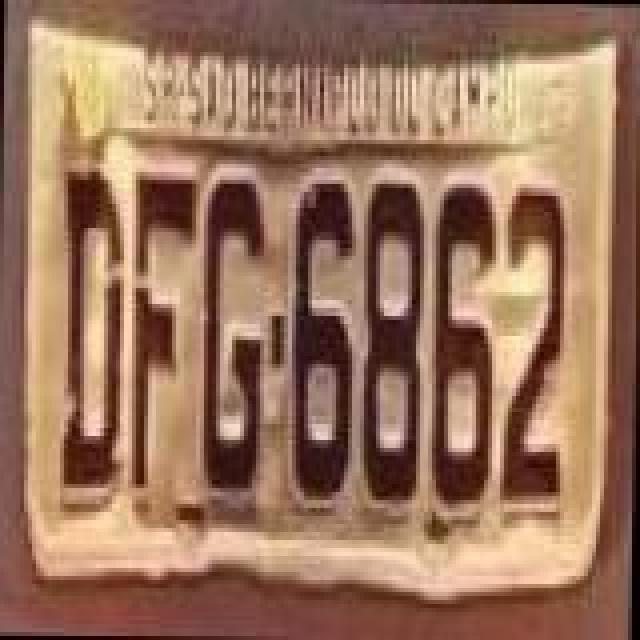2: (500, 178, 568, 510)
6: (428, 172, 496, 512), (292, 170, 360, 502)
8: (360, 176, 428, 508)
D: (60, 162, 128, 502)
F: (128, 164, 196, 496)
G: (200, 168, 268, 492)
